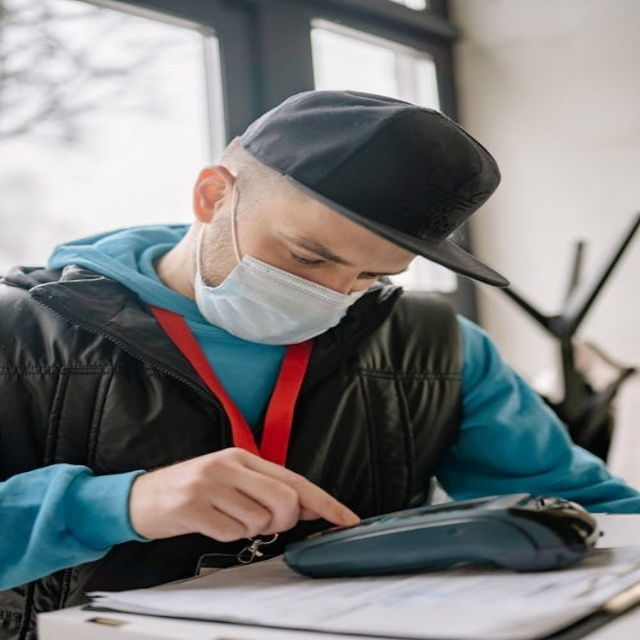Mascara: (191, 186, 374, 346)
Sin_gafas: (290, 252, 329, 267), (359, 269, 391, 280)
Sin_guantes: (125, 426, 369, 555)
